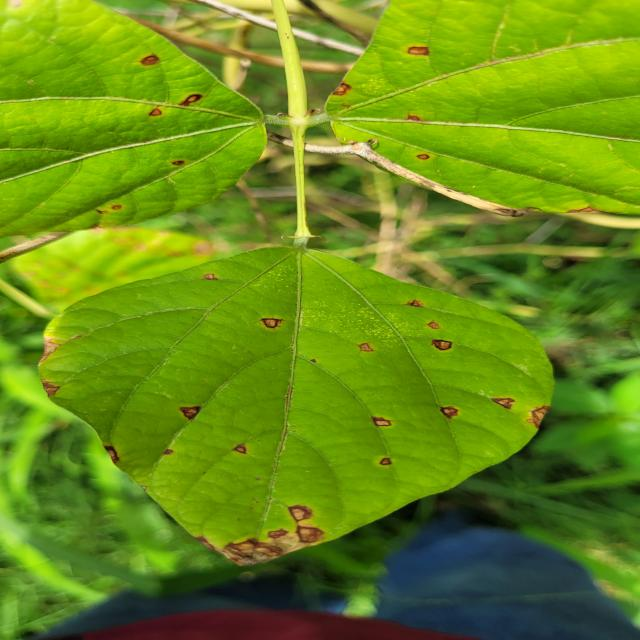Dolicos bean_cercospora leaf spot: (46, 246, 549, 568), (316, 0, 640, 215), (0, 0, 280, 232)
